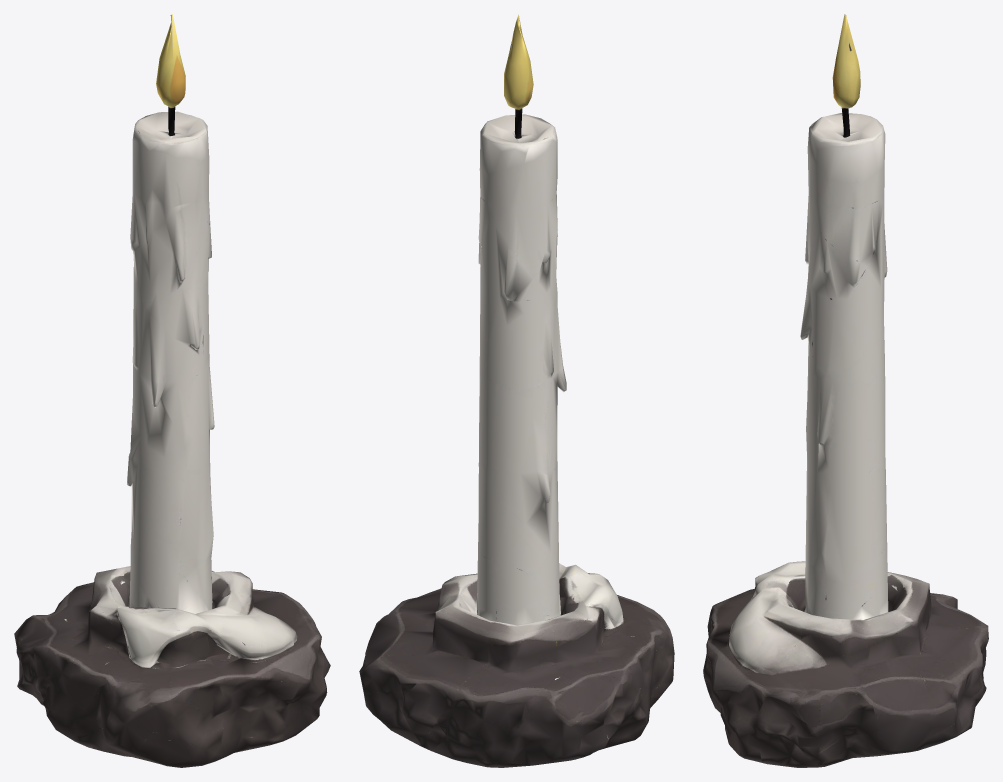
File: candle.glb
The picture shows the model from 3 angles, left to right: view 1: azimuth 30°, elevation 25°; view 2: azimuth 150°, elevation 25°; view 3: azimuth 270°, elevation 25°; orthographic projection.
Bounding box in the file's own units: 0.7219 × 1.9 × 0.694.
1 material, 1 textured.
